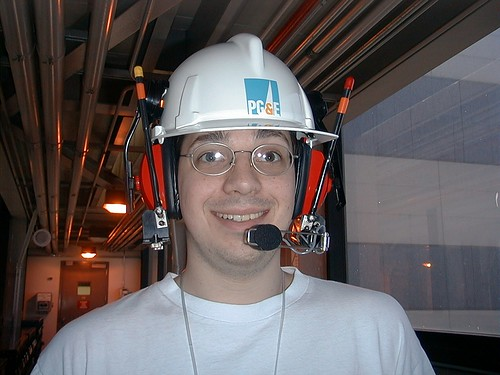person hardhat: (150, 34, 341, 269)
